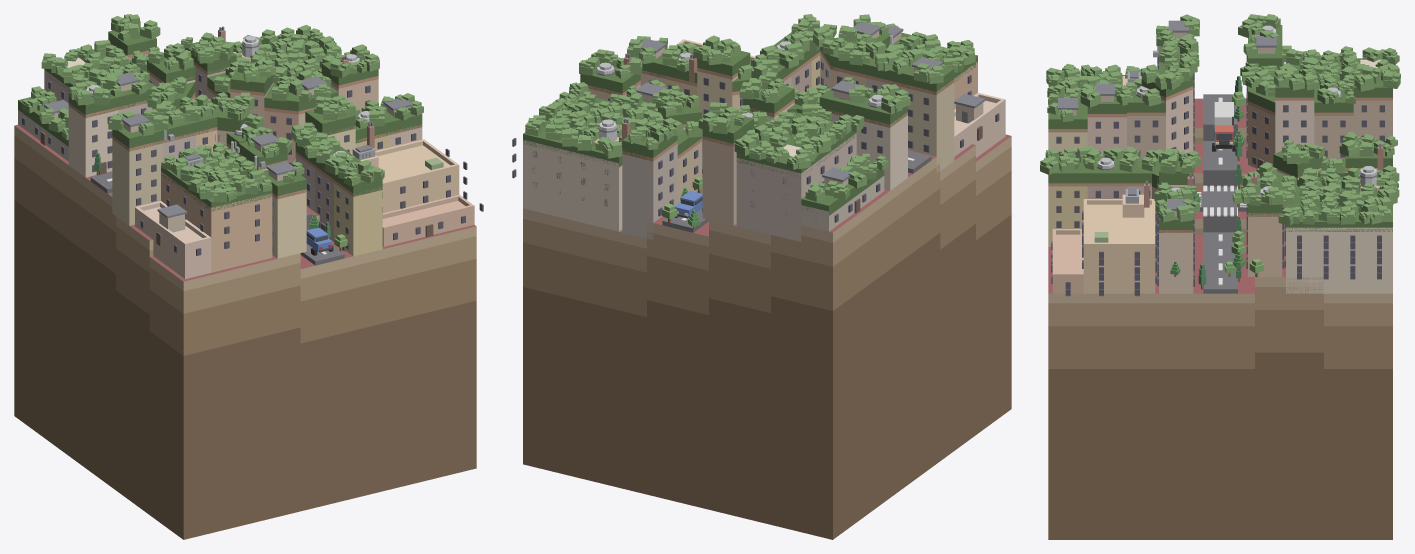
File: block_17_greenroof_65.glb
3 views of the same model, side by side, from view 1: azimuth 30°, elevation 25°; view 2: azimuth 150°, elevation 25°; view 3: azimuth 270°, elevation 25° (orthographic). The views are drawn at different scales.
Parts seen in each view (by area): view 1: Patch_MidRight_b15_GR, Cerda_MidRight_b15_GR, Insets_MidRight_b15_GR, GR_Roof_Cerda_MidRight_b15_GR, CerdaRoofProps_MidRight_b15_GR, GR_Roof_Insets_MidRight_b15_GR, Roads_MidRight_b15_GR, Asset_Car.036_GR; view 2: Patch_MidRight_b15_GR, Cerda_MidRight_b15_GR, Insets_MidRight_b15_GR, GR_Roof_Cerda_MidRight_b15_GR, CerdaRoofProps_MidRight_b15_GR, GR_Roof_Insets_MidRight_b15_GR, Roads_MidRight_b15_GR; view 3: Patch_MidRight_b15_GR, Cerda_MidRight_b15_GR, Insets_MidRight_b15_GR, GR_Roof_Cerda_MidRight_b15_GR, Roads_MidRight_b15_GR, CerdaRoofProps_MidRight_b15_GR, GR_Roof_Insets_MidRight_b15_GR, Asset_Truck.009_GR, Zebra_MidRight_b15_GR.
Part boxes in pixels (x1,y1,x2,y2): Patch_MidRight_b15_GR: (14, 124, 476, 539); Cerda_MidRight_b15_GR: (68, 43, 422, 258); Insets_MidRight_b15_GR: (18, 52, 483, 279); GR_Roof_Cerda_MidRight_b15_GR: (68, 27, 422, 198); CerdaRoofProps_MidRight_b15_GR: (44, 26, 412, 232); GR_Roof_Insets_MidRight_b15_GR: (18, 40, 326, 211); Roads_MidRight_b15_GR: (90, 172, 344, 265); Asset_Car.036_GR: (306, 227, 333, 255); Patch_MidRight_b15_GR: (523, 134, 1011, 539); Cerda_MidRight_b15_GR: (588, 48, 954, 239); Insets_MidRight_b15_GR: (512, 39, 1005, 241); GR_Roof_Cerda_MidRight_b15_GR: (580, 32, 954, 161); CerdaRoofProps_MidRight_b15_GR: (596, 22, 985, 184); GR_Roof_Insets_MidRight_b15_GR: (523, 43, 977, 215); Roads_MidRight_b15_GR: (662, 150, 931, 232); Patch_MidRight_b15_GR: (1048, 98, 1392, 539); Cerda_MidRight_b15_GR: (1048, 46, 1392, 293); Insets_MidRight_b15_GR: (1051, 59, 1392, 296); GR_Roof_Cerda_MidRight_b15_GR: (1048, 25, 1392, 232); Roads_MidRight_b15_GR: (1199, 94, 1246, 293); CerdaRoofProps_MidRight_b15_GR: (1058, 20, 1383, 216); GR_Roof_Insets_MidRight_b15_GR: (1061, 58, 1392, 231); Asset_Truck.009_GR: (1212, 102, 1235, 151); Zebra_MidRight_b15_GR: (1197, 185, 1246, 216).
Size of the model in its own units: 10.18 by 11.57 by 9.95.
